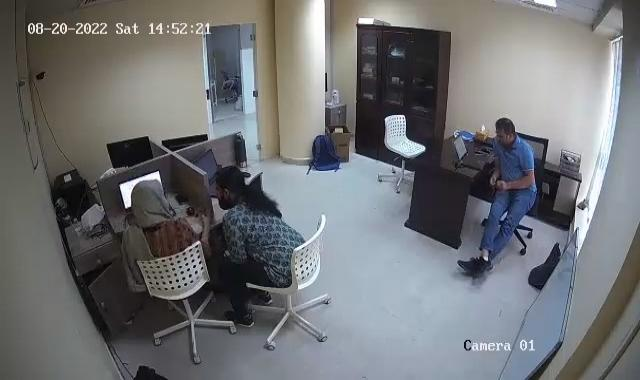no_hairnet: (127, 174, 170, 214), (212, 162, 247, 198), (493, 111, 519, 147)
